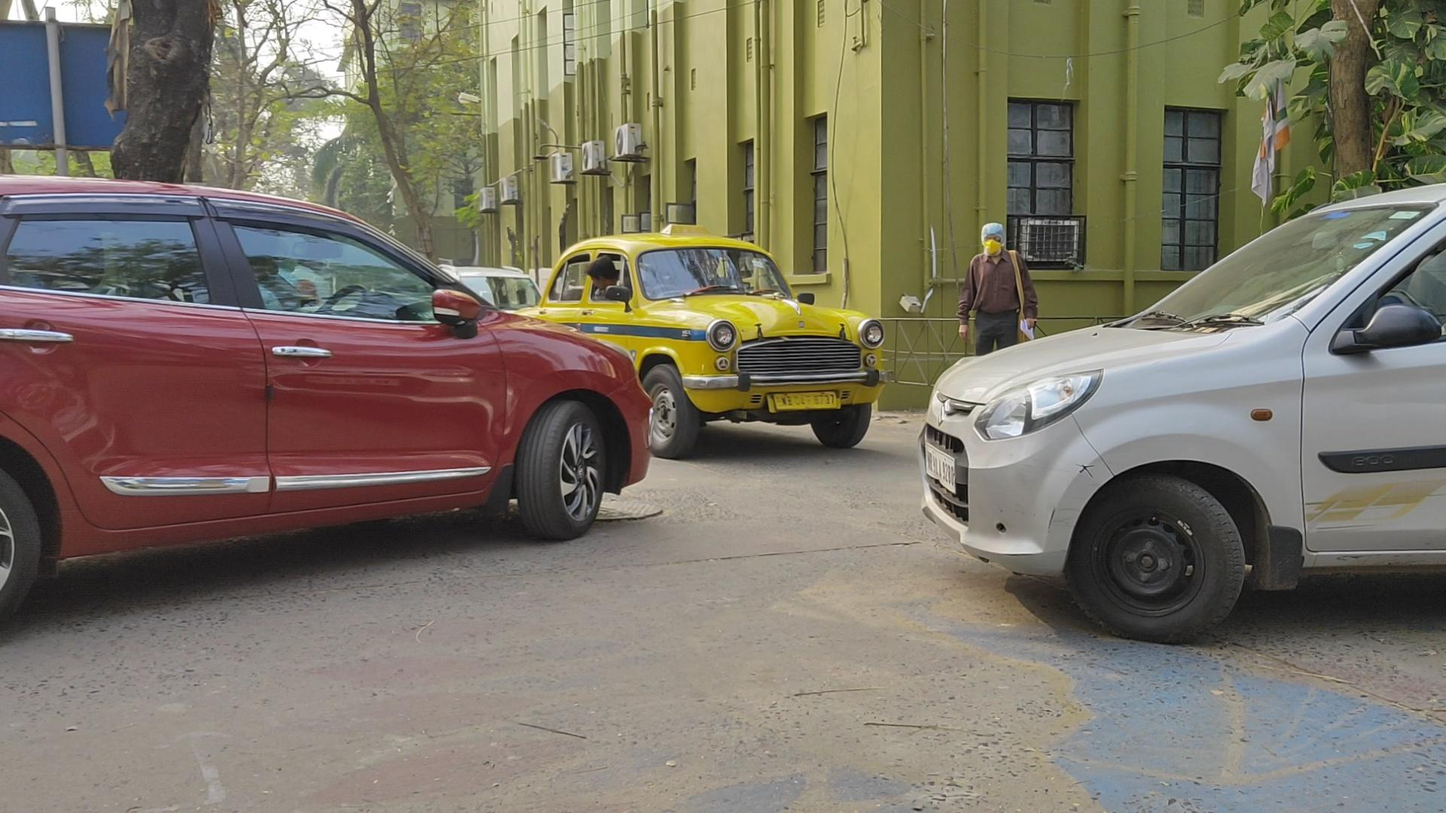car: (2, 174, 654, 632), (921, 183, 1446, 644), (512, 233, 885, 459)
